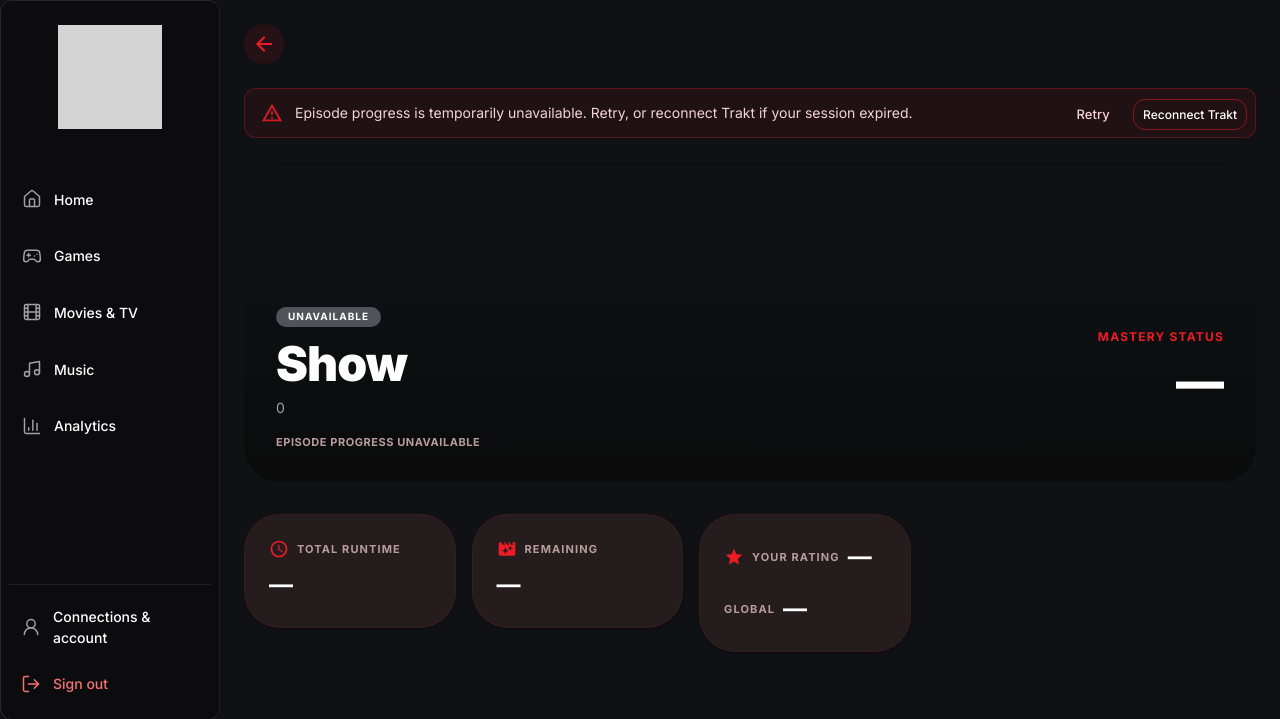
ShowDetails unavailable statistics › never reports Not Started or zero progress when the stats request fails
Expected: the text "Episode progress is temporarily unavailable" is shown, left=295, top=104, right=912, bottom=121
Expected: the text "Unavailable" is shown, left=288, top=310, right=369, bottom=322
Click the button "Retry".
click(1093, 114)  # box left=1061, top=99, right=1125, bottom=130
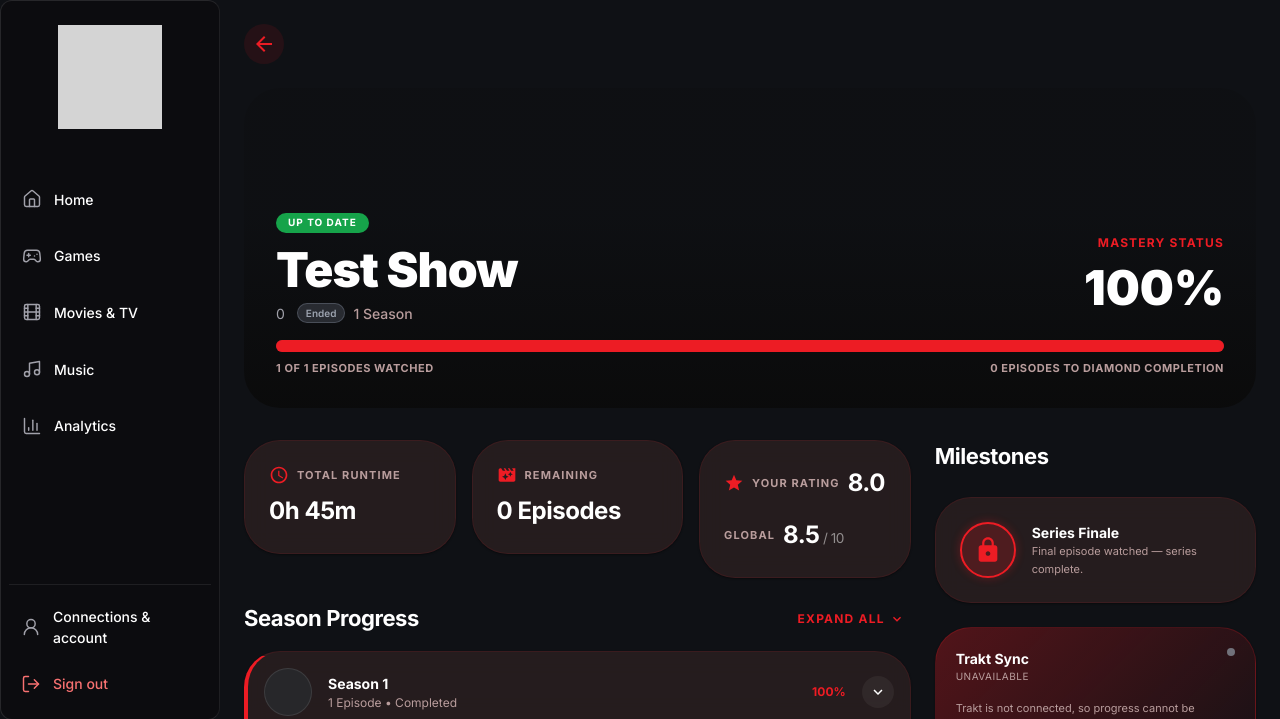
Now the text "100%" below "Mastery Status" is shown, box left=1084, top=258, right=1224, bottom=316
Now the text "1 of 1 Episodes Watched" is shown, box left=276, top=360, right=434, bottom=376
